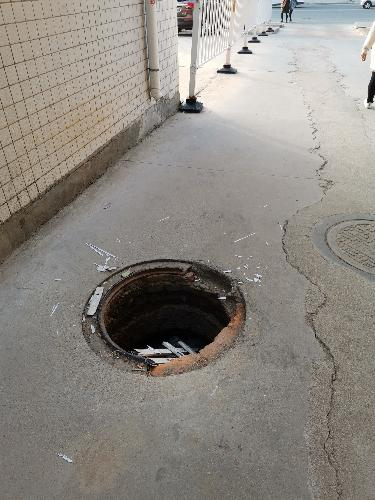wellcover: (65, 249, 284, 376)
